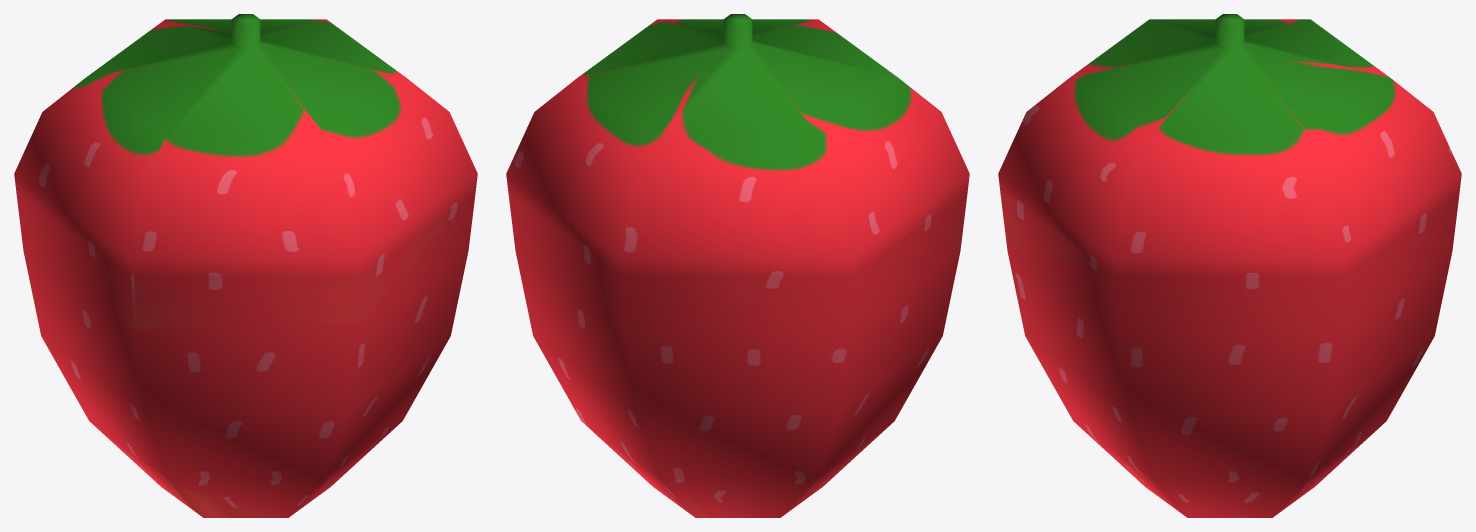
File: Strawberry.fbx
The picture shows the model from 3 angles, left to right: view 1: azimuth 30°, elevation 25°; view 2: azimuth 150°, elevation 25°; view 3: azimuth 270°, elevation 25°; orthographic projection.
Visible parts, largest first — view 1: Sphere; view 2: Sphere; view 3: Sphere.
Part boxes in pixels (bbox=[...]): Sphere: bbox=[14, 14, 477, 517]; Sphere: bbox=[506, 14, 969, 517]; Sphere: bbox=[998, 14, 1461, 517].
Size of the model in its own units: 181 by 246 by 209.
